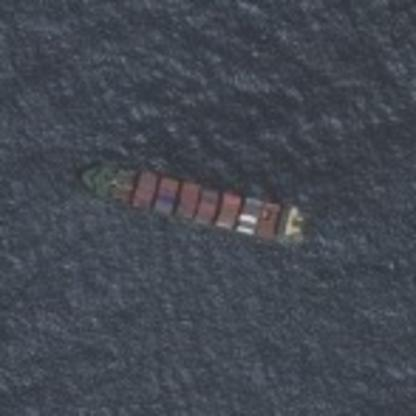ship: (68, 154, 314, 250)
